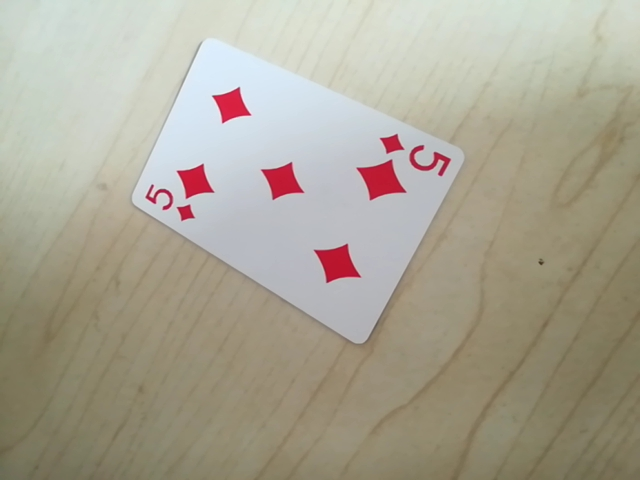fk 5: (373, 132, 455, 173), (141, 184, 204, 226)
